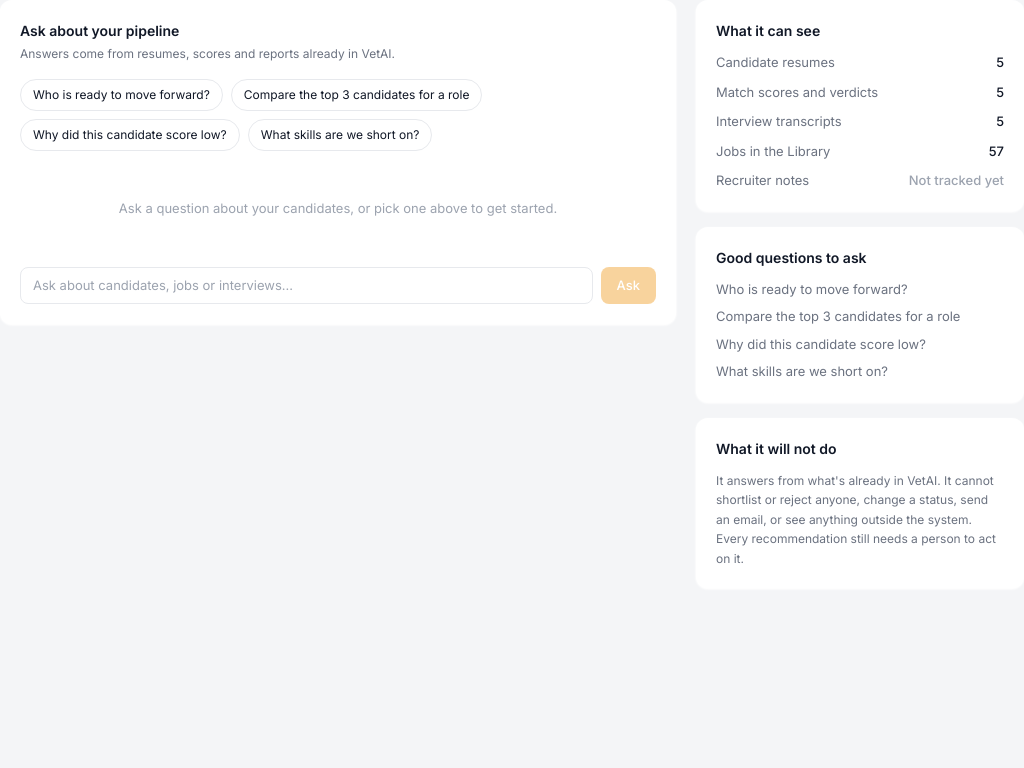
Test: AIAssistantView › clicking a suggested question sends it immediately
Step 1. Click the button "What skills are we short on?" → (340, 135), box top-left (248, 119), bottom-right (432, 151)
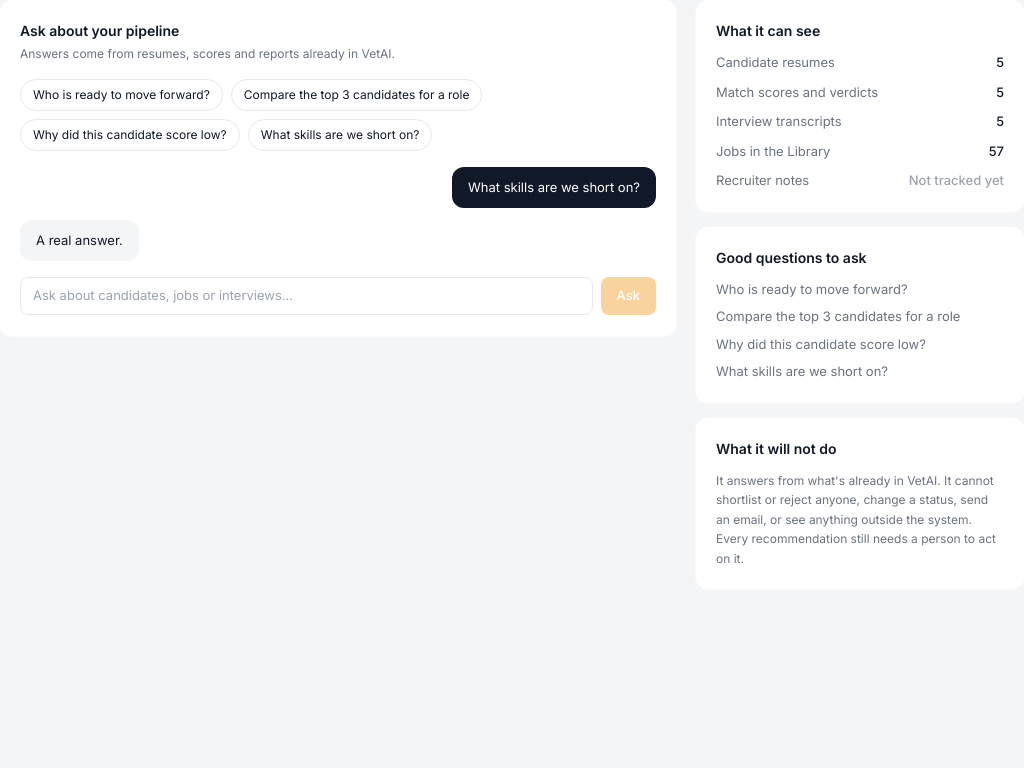
Check: the text "A real answer." is shown, box top-left (20, 220), bottom-right (139, 261)
